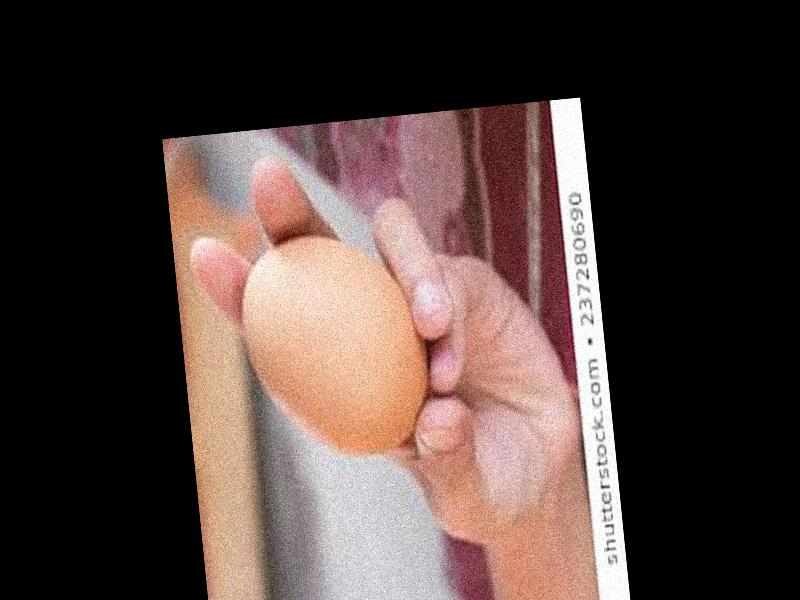Eggs: (236, 223, 434, 462)
